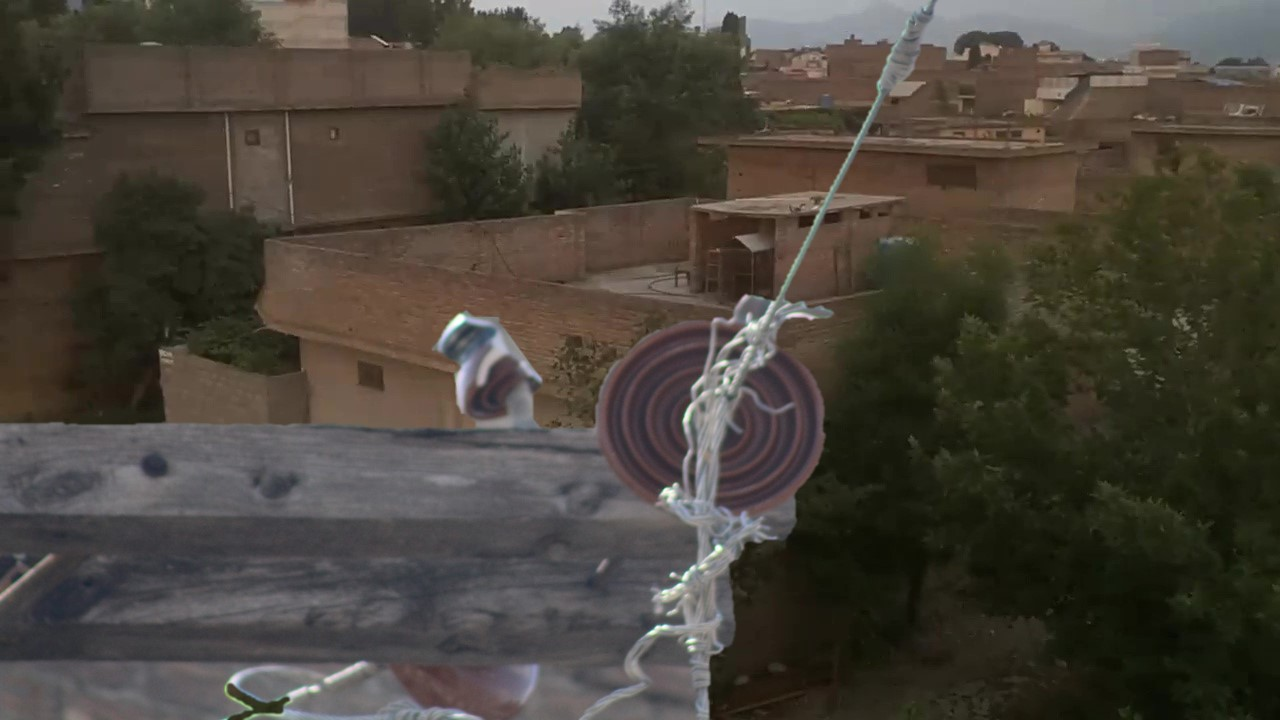defect_pin: (431, 300, 548, 422)
insulator_disc: (592, 313, 835, 518)
